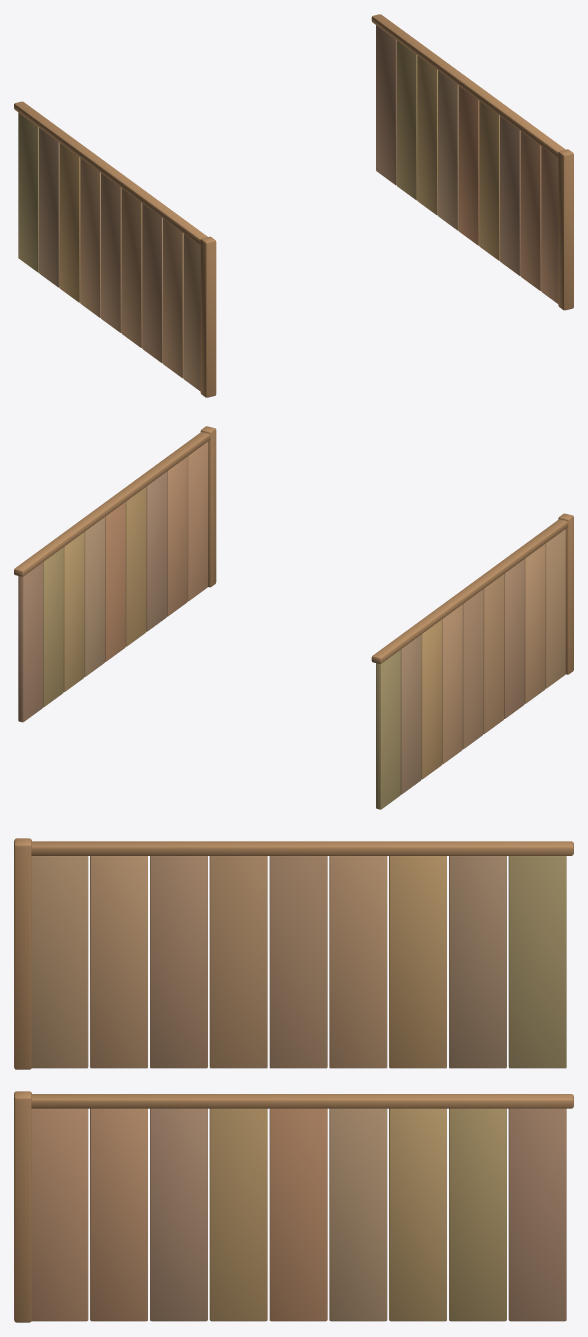
The model's file is W6_BoxWalls.fbx.
3 views of the same model, one above another, from view 1: azimuth 30°, elevation 25°; view 2: azimuth 150°, elevation 25°; view 3: azimuth 270°, elevation 25° (orthographic). The views are drawn at different scales.
Visible parts, largest first — view 1: W6_BoxWalls; view 2: W6_BoxWalls; view 3: W6_BoxWalls.
Part boxes in pixels (<box>): W6_BoxWalls: <box>14,14,573,397</box>; W6_BoxWalls: <box>14,426,573,809</box>; W6_BoxWalls: <box>14,838,573,1322</box>.
Bounding box in the file's own units: 6.8 × 2.75 × 6.18.
